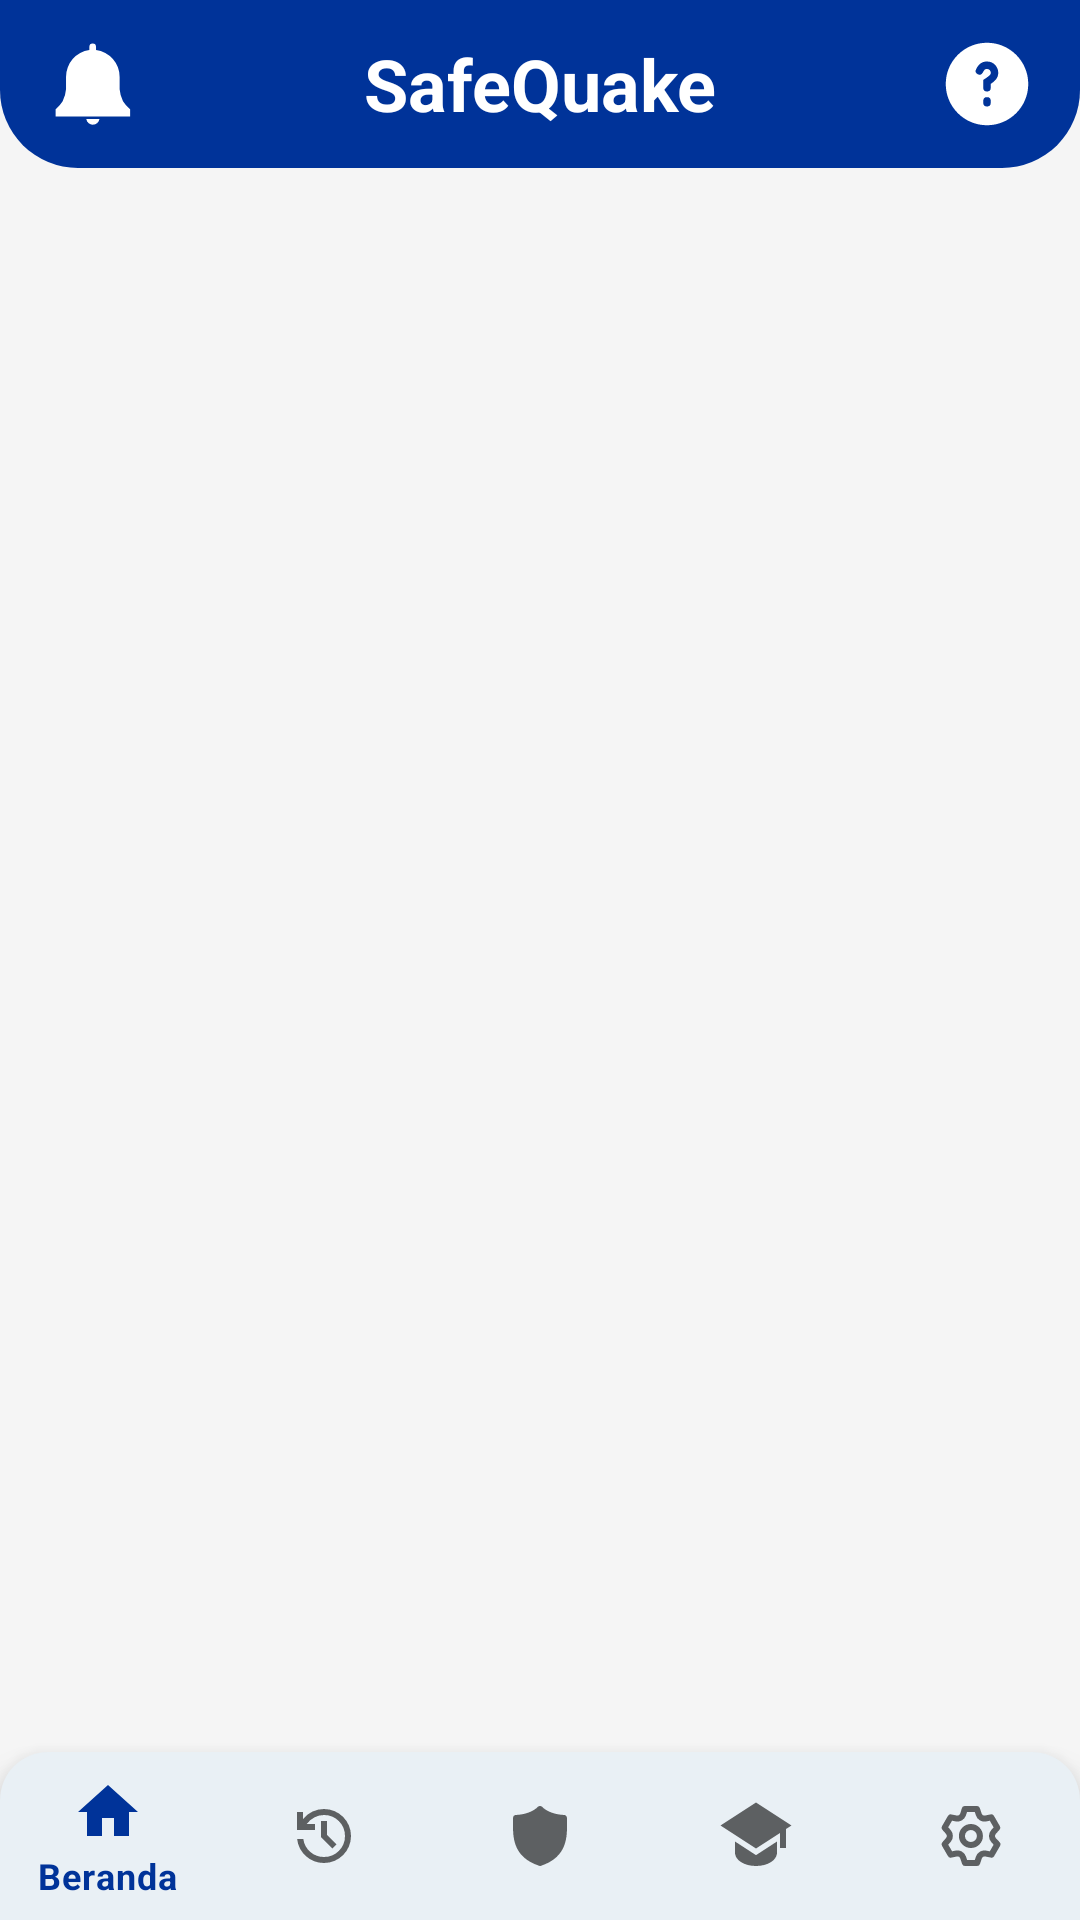

Where to tap for icons on this 1080px x 1920px app screen, as point (x, y):
Notifikasi: point (93, 84)
Tentang: point (987, 84)
